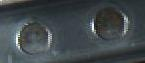joints: (90, 4, 132, 42), (13, 18, 53, 57)
